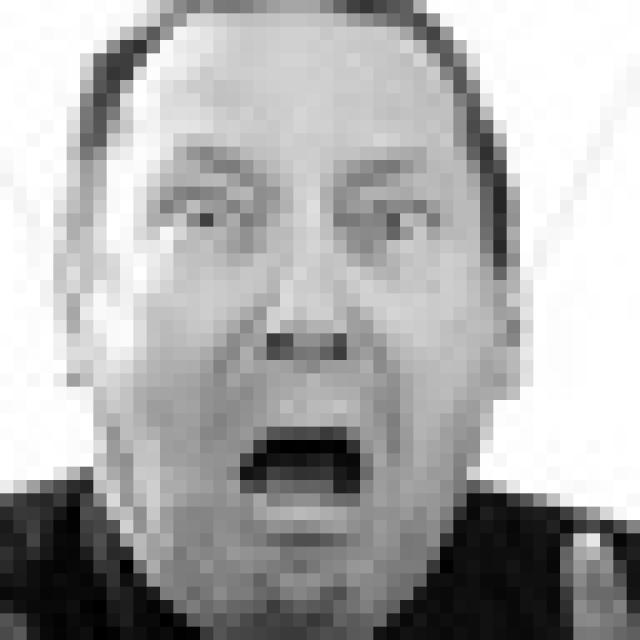fear: (130, 143, 471, 557)
